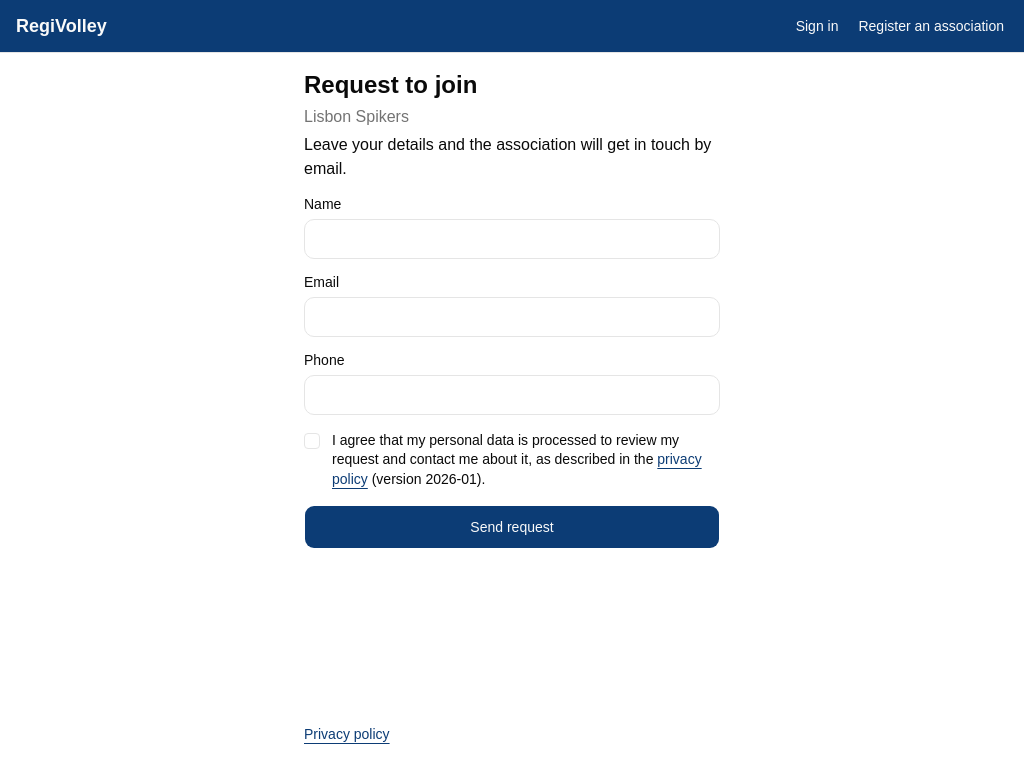
Test: join form › marks the fields of a 400 and keeps what was typed
This screenshot has width=1024, height=768.
Type "Rita Silva" into the field labelled "Name". click: (512, 239)
box: 304,219 -> 720,259
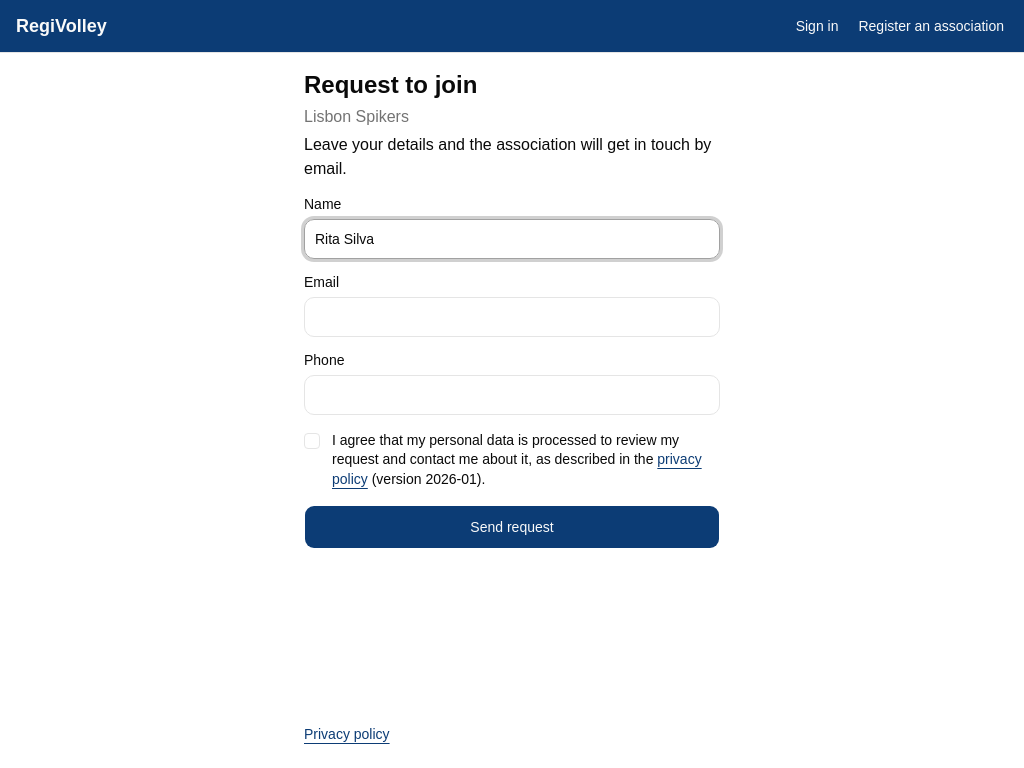
Type "rita@example.com" into the field labelled "Email". click: (512, 317)
box: 304,297 -> 720,337
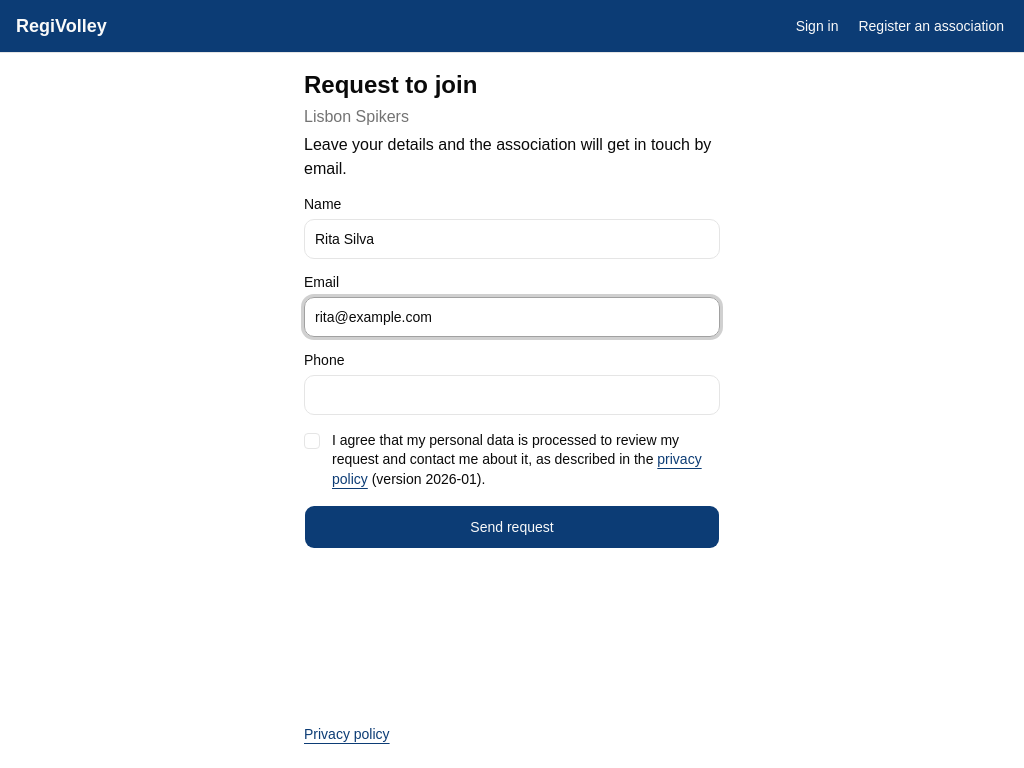
Type "912345678" into the field labelled "Phone". click: (512, 395)
box: 304,375 -> 720,415
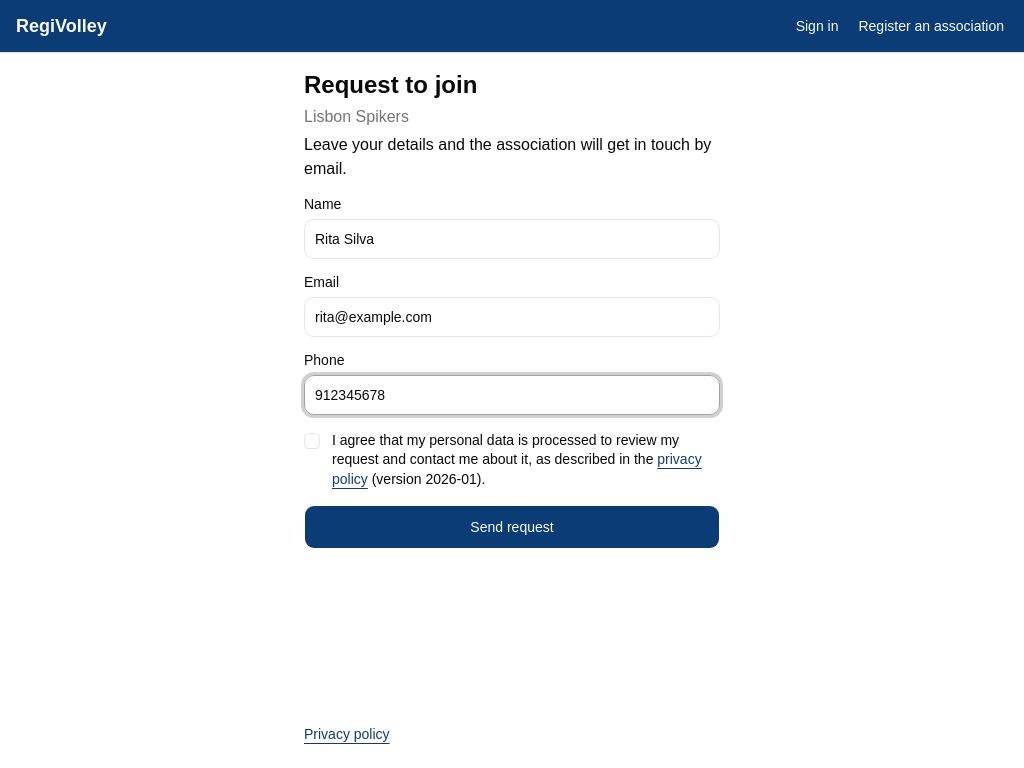
Click the checkbox named "I agree". click: click(312, 441)
box: 304,433 -> 320,449
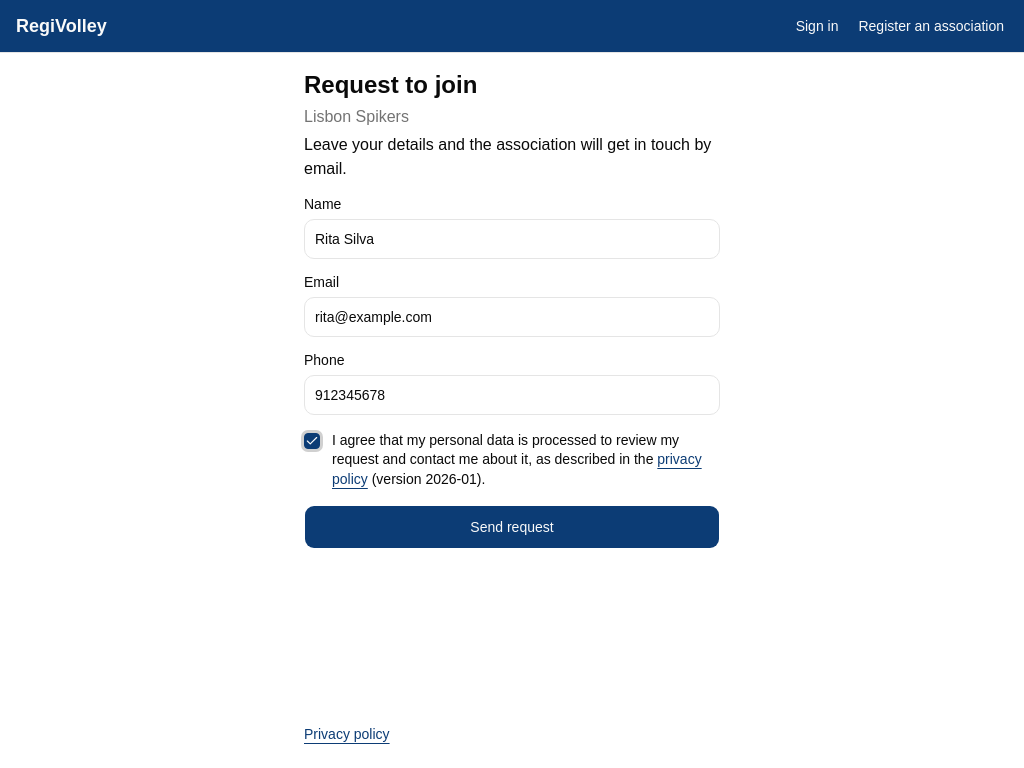
Click the button "Send request". click: click(512, 527)
box: 304,505 -> 720,549
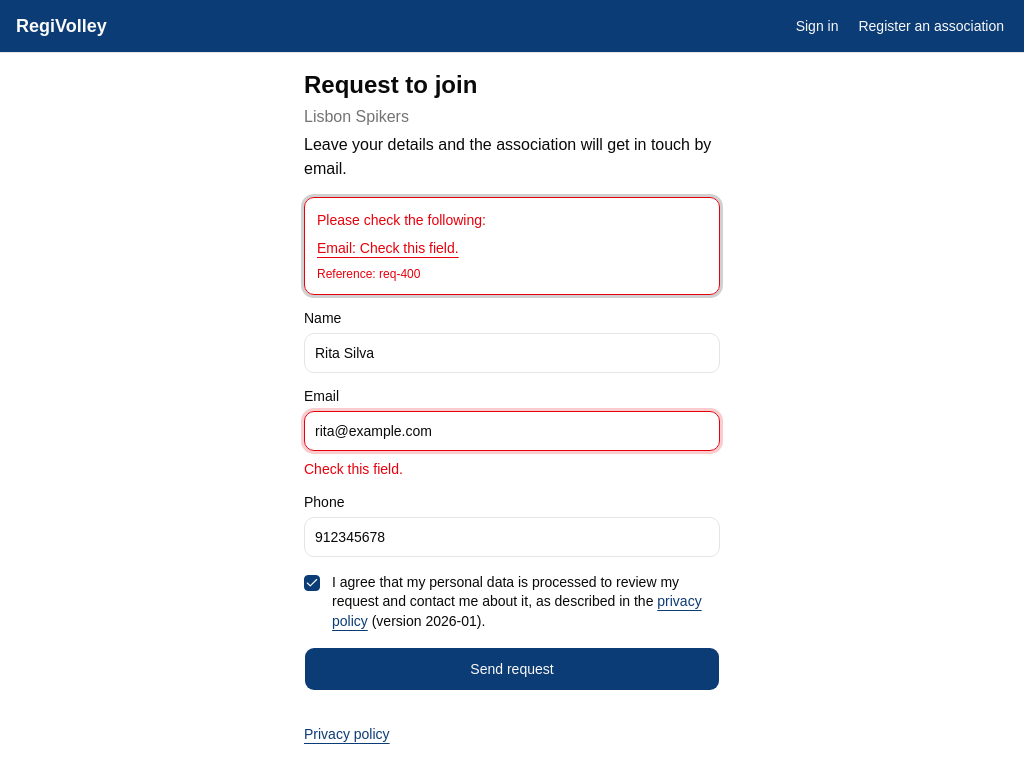
Now the message "Please check the following: Email: Check this field. Reference: req-400" is shown, box 304,197 -> 720,295
